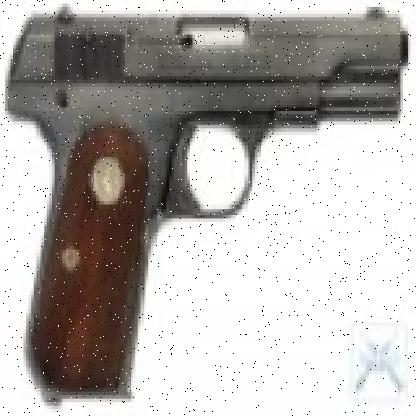pistol: (10, 7, 408, 392)
